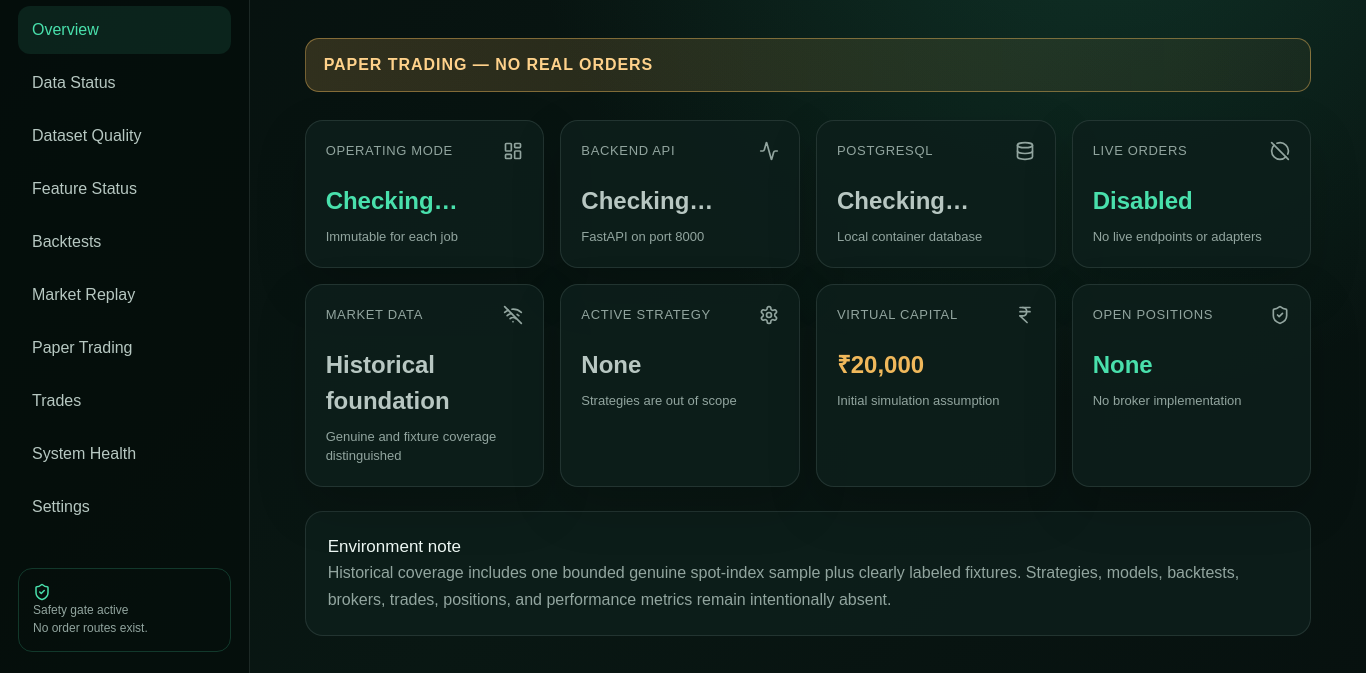
Test case: Feature Status › shows leakage safety, aggregates, and synthetic warning
Step 1. Click the button "Feature Status" → x=124, y=189, box [18,165,231,213]
(page scrolled)
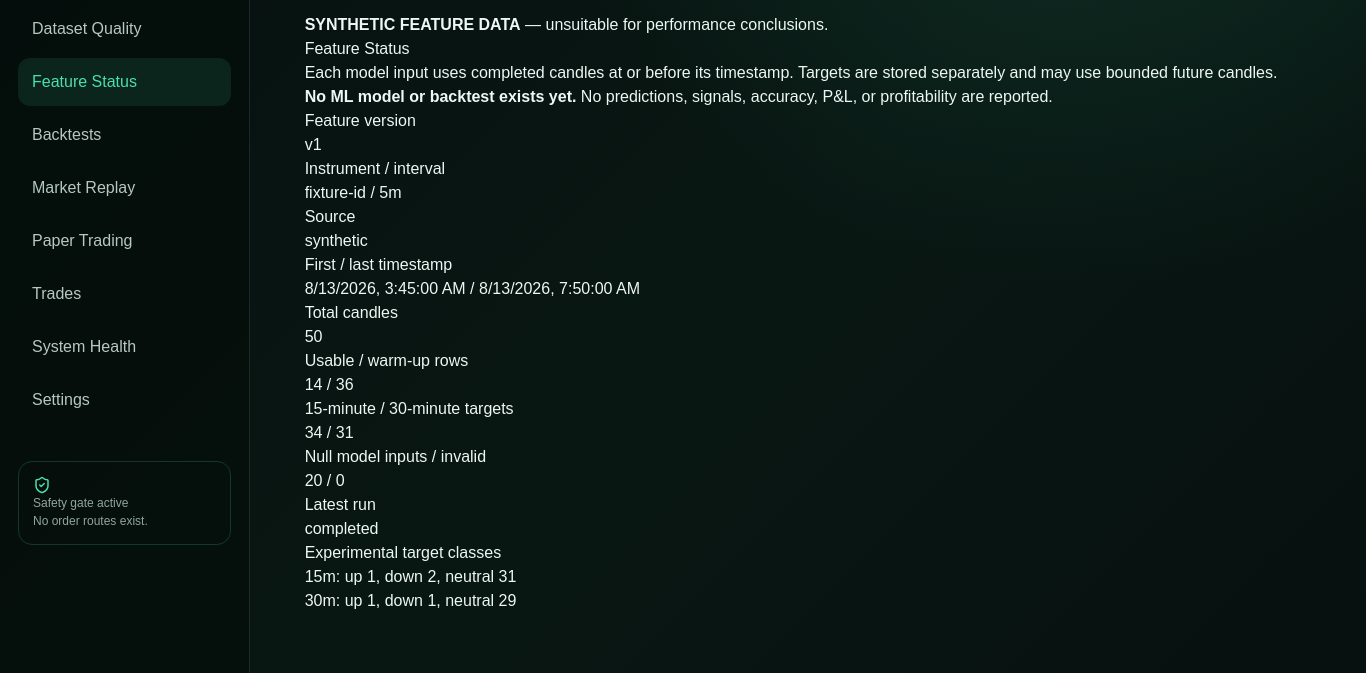
Check: the text "SYNTHETIC FEATURE DATA" is shown, box [305,16,521,33]
Check: the text "Each model input uses completed candles" is shown, box [305,64,1277,81]
Check: the text "No ML model or backtest exists yet." is shown, box [305,88,576,105]
